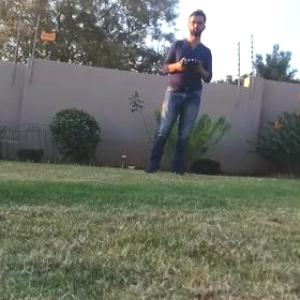follow: (138, 1, 214, 180)
